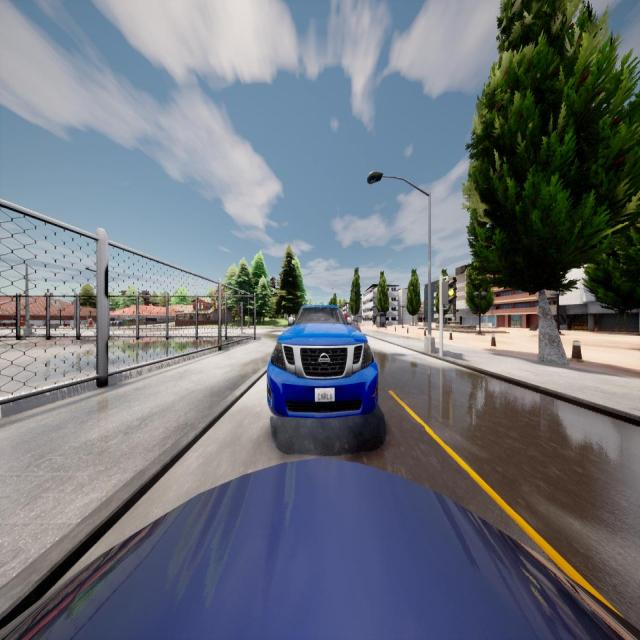Vehicle: (0, 458, 640, 640), (266, 305, 378, 417)
traffic_light: (442, 280, 456, 305), (239, 307, 241, 315)
